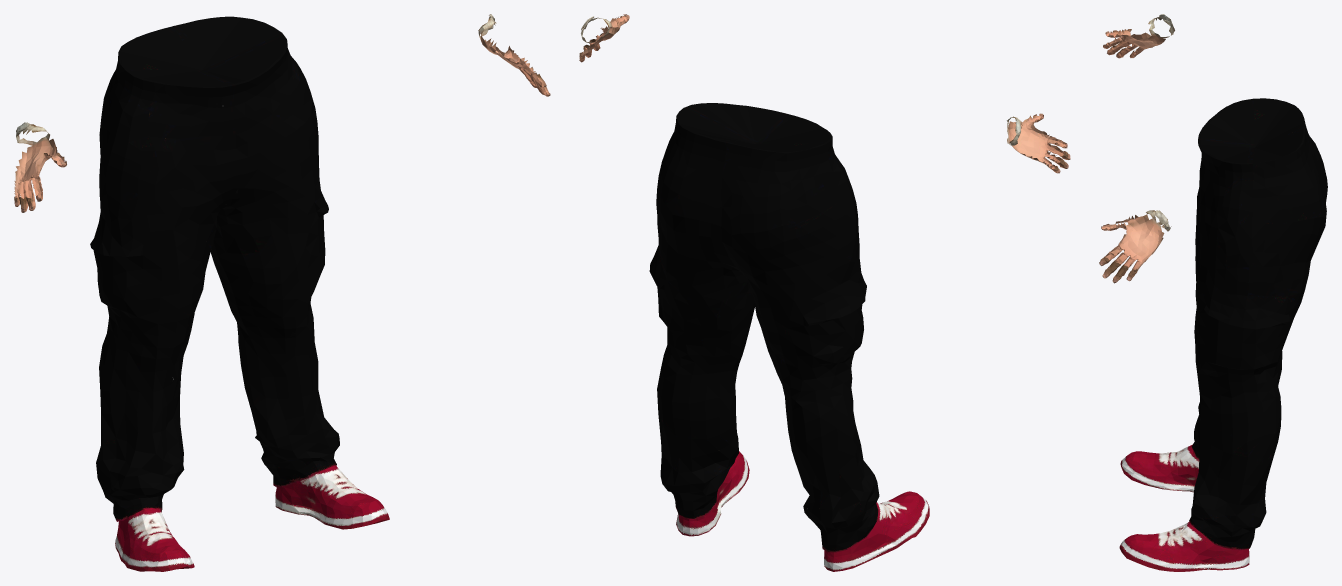
The model's file is ewm_t2gangster_outfit.glb.
3 renders of one model, left to right at view 1: azimuth 30°, elevation 25°; view 2: azimuth 150°, elevation 25°; view 3: azimuth 270°, elevation 25°, orthographic. The views are drawn at different scales.
Parts seen in each view (by area): view 1: ewm_t2gangster_outfit; view 2: ewm_t2gangster_outfit; view 3: ewm_t2gangster_outfit.
Boxes of the visible parts, bbox=[...] form: ewm_t2gangster_outfit: bbox=[14, 14, 550, 571]; ewm_t2gangster_outfit: bbox=[579, 14, 1070, 571]; ewm_t2gangster_outfit: bbox=[1099, 14, 1327, 571].
Bounding box in the file's own units: 1.29 × 1.15 × 0.5672.
1 material, 1 textured.
